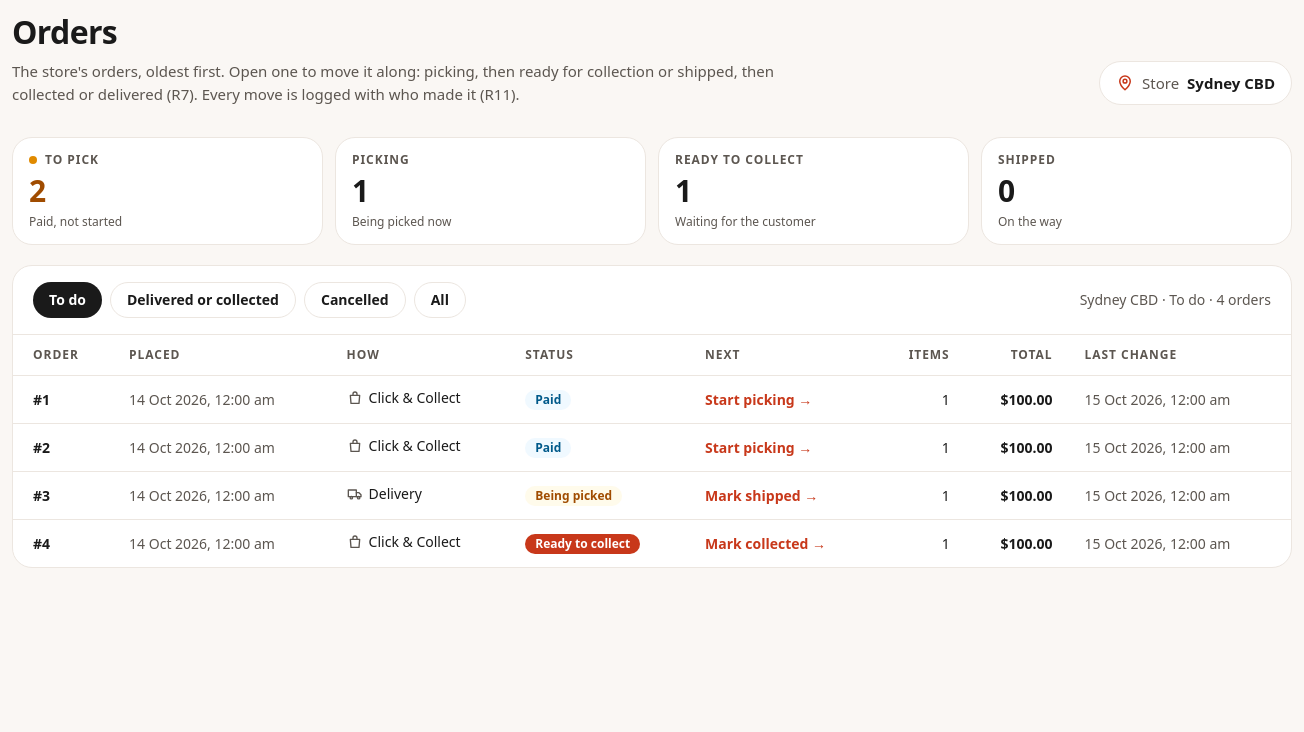
the store's order queue › a_tile_filters_the_list_it_already_has
Check: the link "#1" is shown, box x1=33 y1=390 x2=50 y2=408
What coordinates should you click on to do the following:
click the button "To pick 2 Paid, not started"
I would click on:
 (72, 160)
Its box is x1=12 y1=137 x2=323 y2=245.
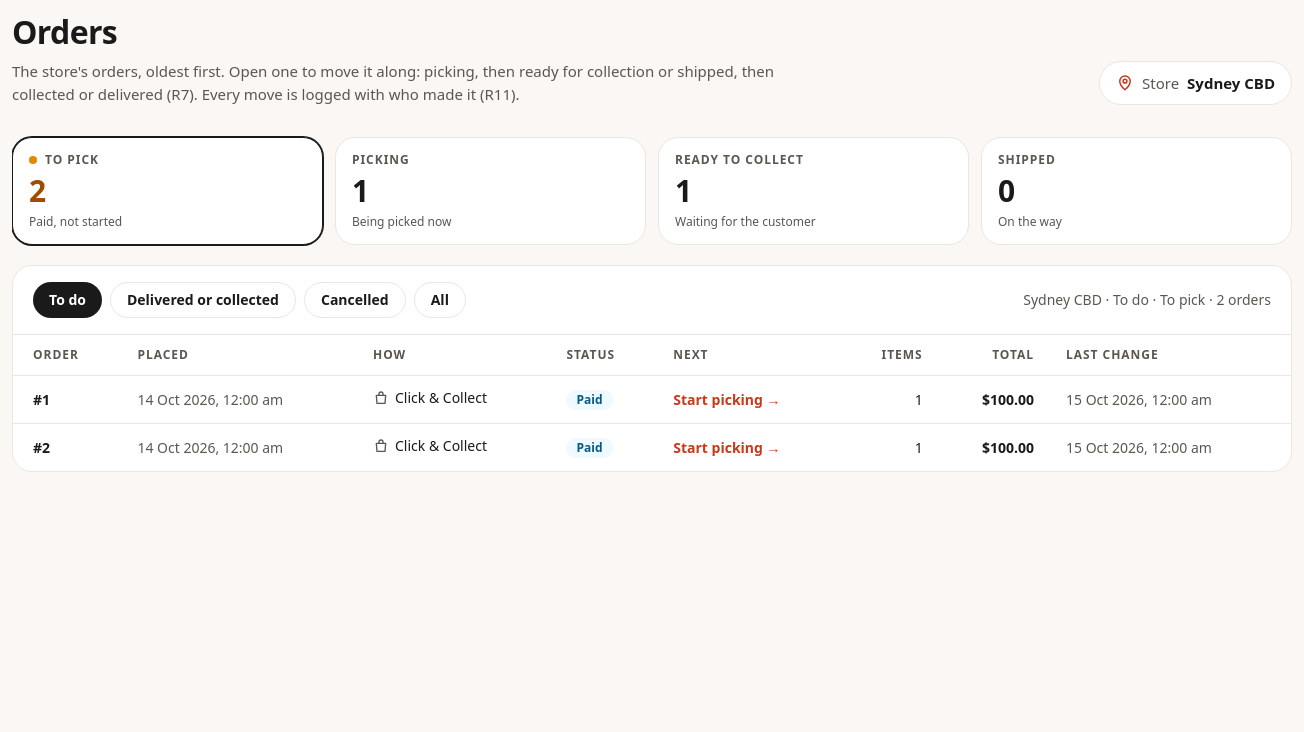
Check: the link "#2" is shown, box x1=33 y1=438 x2=50 y2=456
Check: the link "#3" is gone
